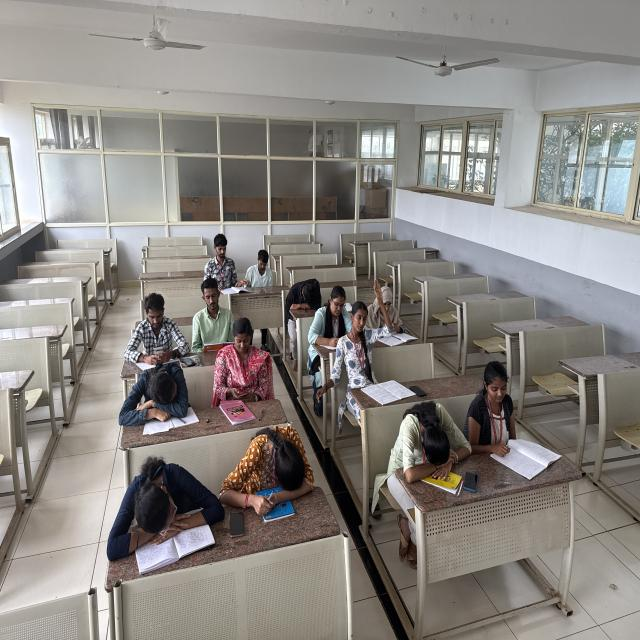Hand Rising: (348, 276, 394, 356)
Reading: (191, 274, 242, 354), (203, 231, 250, 296)
Sleeping: (107, 452, 220, 538), (376, 401, 474, 472), (109, 364, 202, 436), (252, 420, 322, 495), (280, 271, 326, 318)
Using Phone: (209, 306, 276, 403), (116, 285, 192, 366), (379, 271, 414, 333), (246, 243, 278, 292)
Writing: (467, 356, 539, 466), (309, 279, 351, 356)
